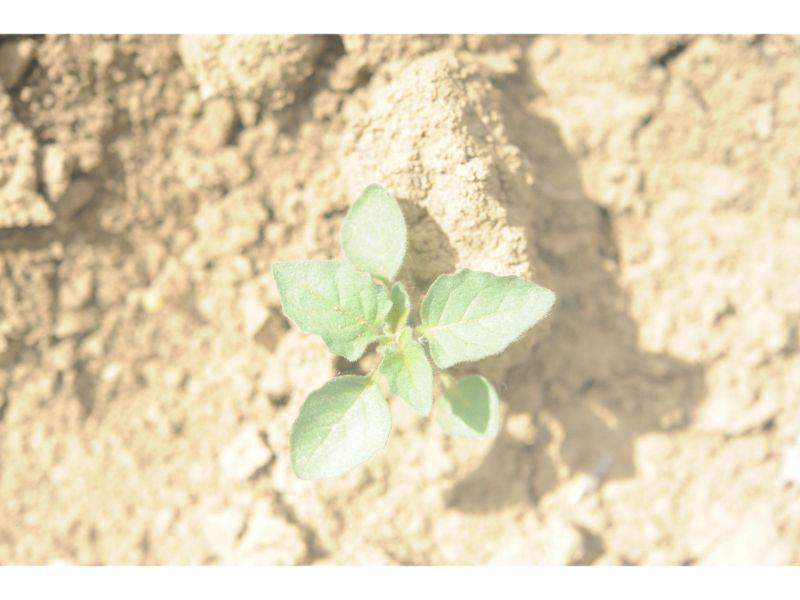nightshade: (270, 180, 556, 480)
